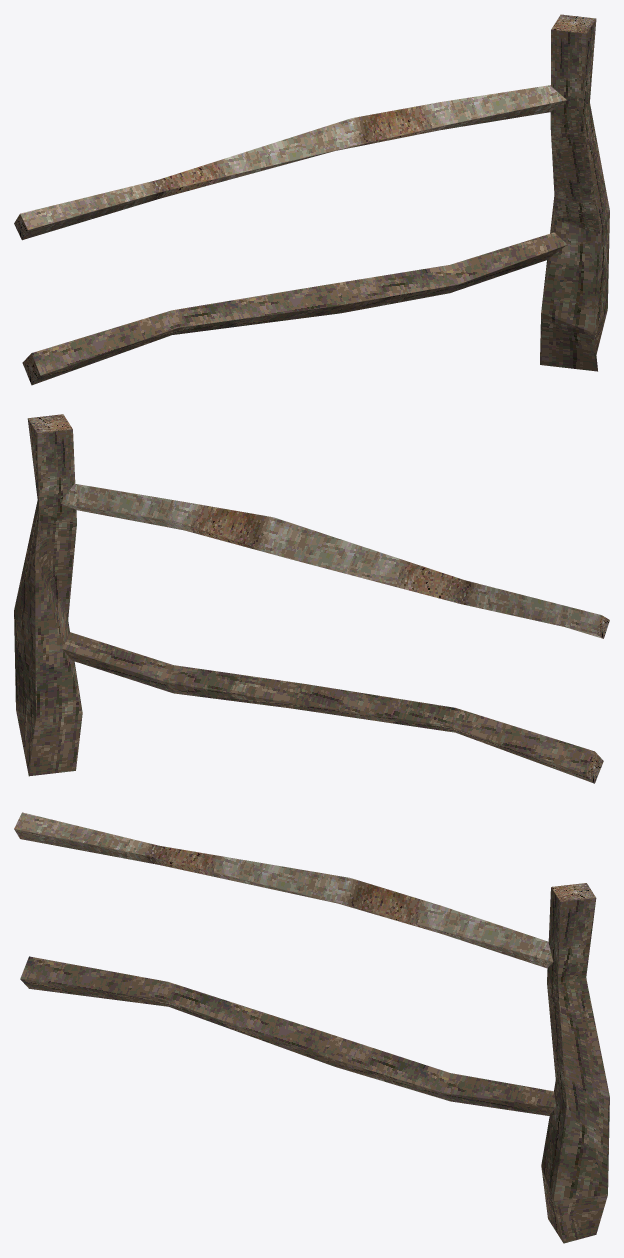
Rendered from wooden_fence_open_alt.glb.
3 views of the same model, one above another, from view 1: azimuth 30°, elevation 25°; view 2: azimuth 150°, elevation 25°; view 3: azimuth 330°, elevation 25° (orthographic).
Parts seen in each view (by area): view 1: wooden_fence_open_alt; view 2: wooden_fence_open_alt; view 3: wooden_fence_open_alt.
Part boxes in pixels (box(x1,y1,x2,y2)): wooden_fence_open_alt: box(14, 14, 609, 385); wooden_fence_open_alt: box(14, 414, 609, 783); wooden_fence_open_alt: box(14, 812, 609, 1243).
Bounding box in the file's own units: 2.19 × 1.2 × 0.2664.
1 material, 1 textured.
